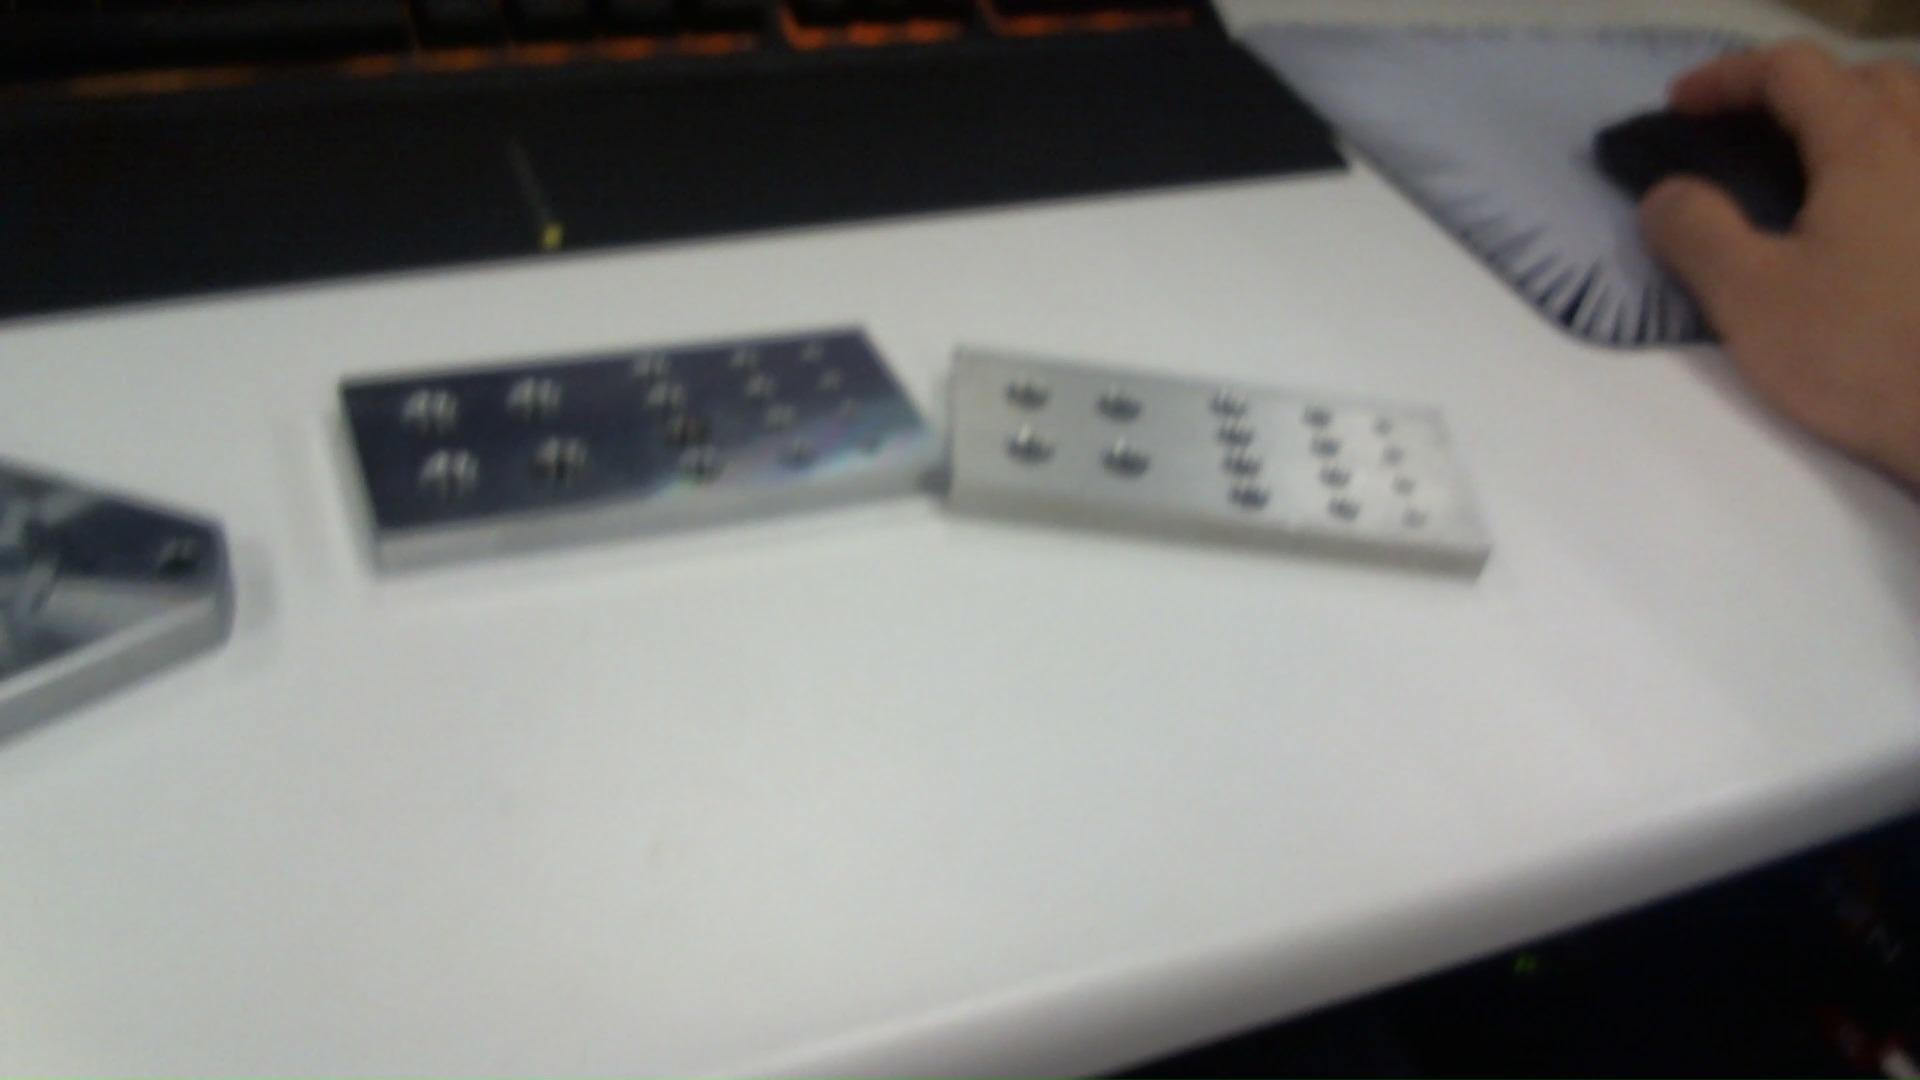hole: (397, 384, 472, 442), (538, 438, 601, 493), (502, 373, 570, 422), (1000, 425, 1062, 477), (415, 454, 480, 504), (1093, 385, 1158, 429), (154, 535, 203, 591), (1096, 438, 1150, 483), (1001, 376, 1056, 413), (1222, 481, 1269, 516), (1212, 393, 1261, 423), (1218, 447, 1262, 480), (1299, 404, 1337, 431), (1215, 421, 1255, 444), (1328, 497, 1364, 522), (1320, 467, 1353, 492), (1309, 436, 1342, 458)
